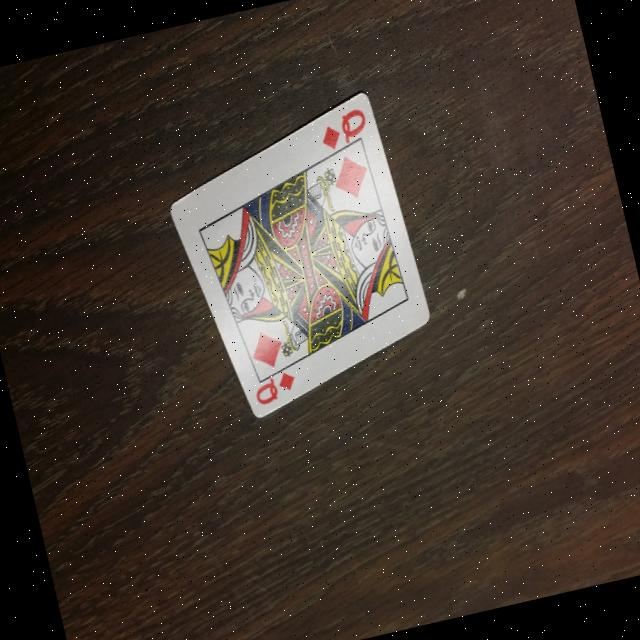Qd: (312, 102, 374, 153), (243, 359, 304, 409)
